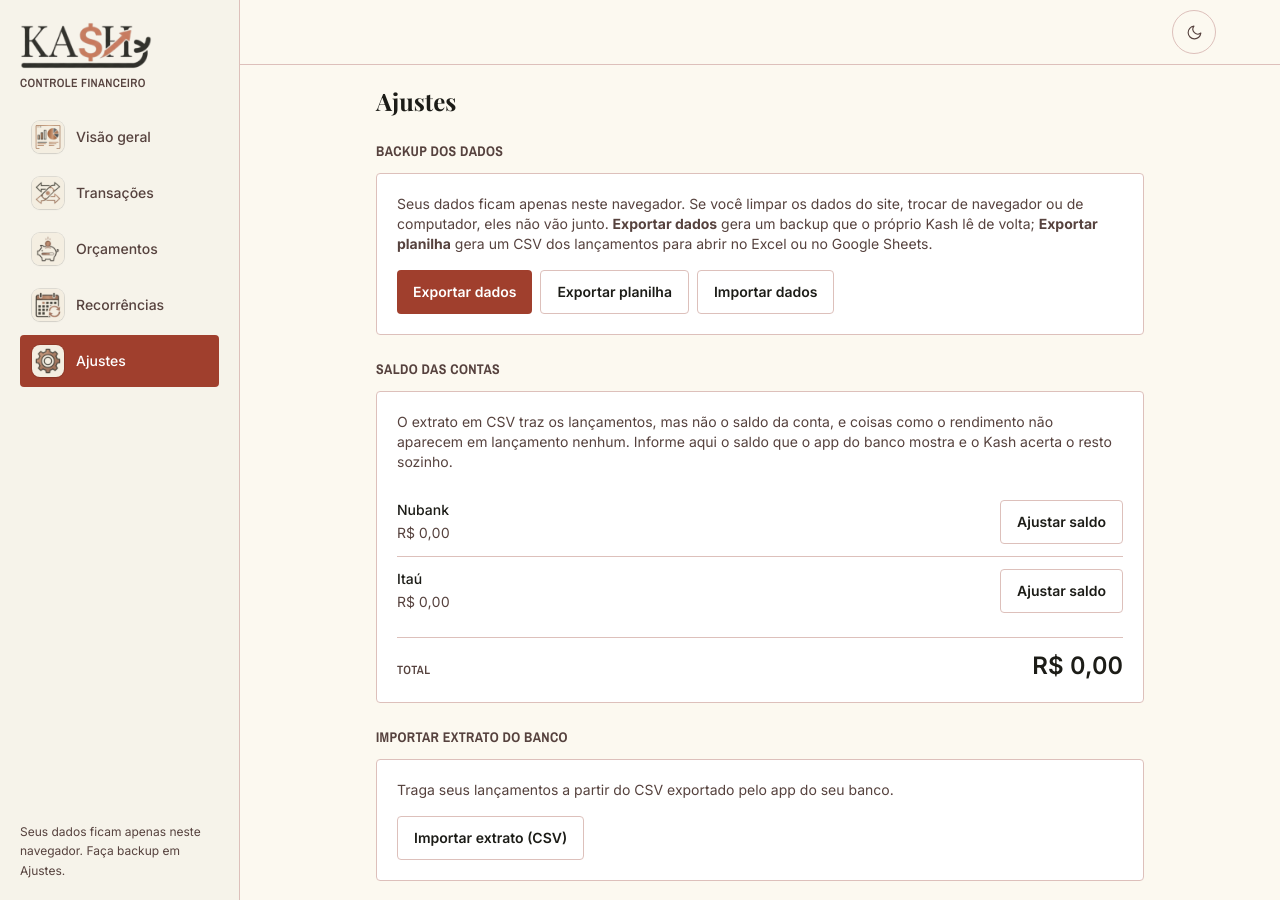
it: caminhos até a importação de extrato › Ajustes continua levando à importação, para quem procura lá
Expected: the heading "Ajustes" is shown, [376, 85, 456, 117]
Click the button "Importar extrato (CSV)". click: (491, 838)
box: [397, 816, 584, 860]
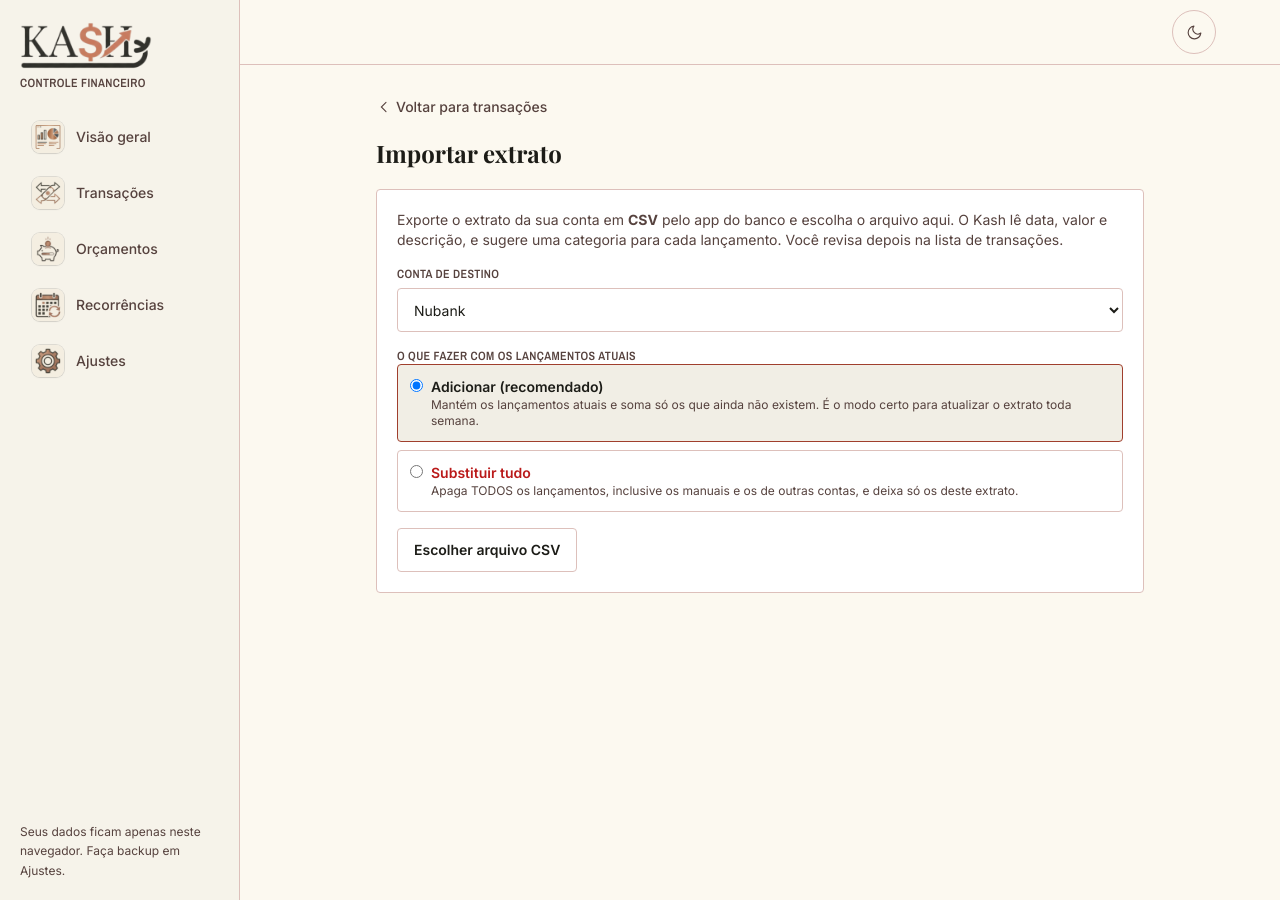
Result: the heading "Importar extrato" is shown at [376, 137, 562, 169]
